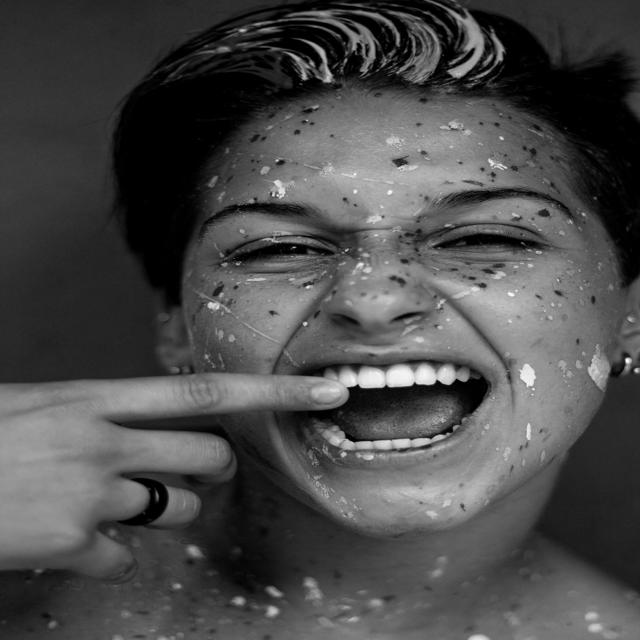Happiness: (178, 79, 628, 544)
